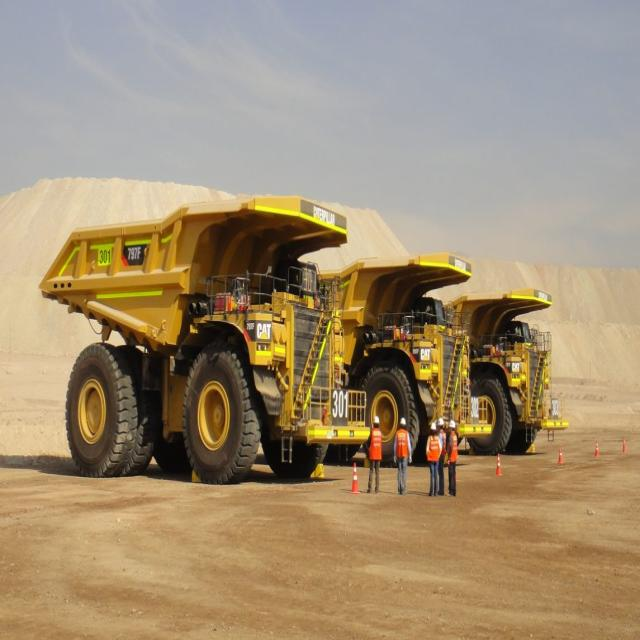dump_truck: (31, 189, 371, 503), (328, 247, 483, 458), (483, 278, 572, 458)
